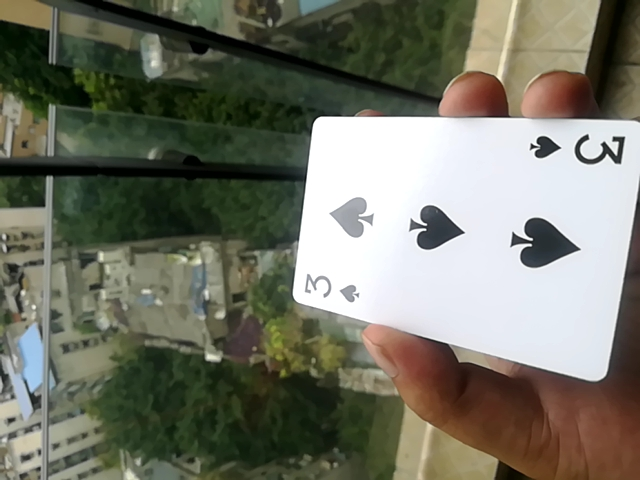ht 3: (295, 108, 639, 389)
